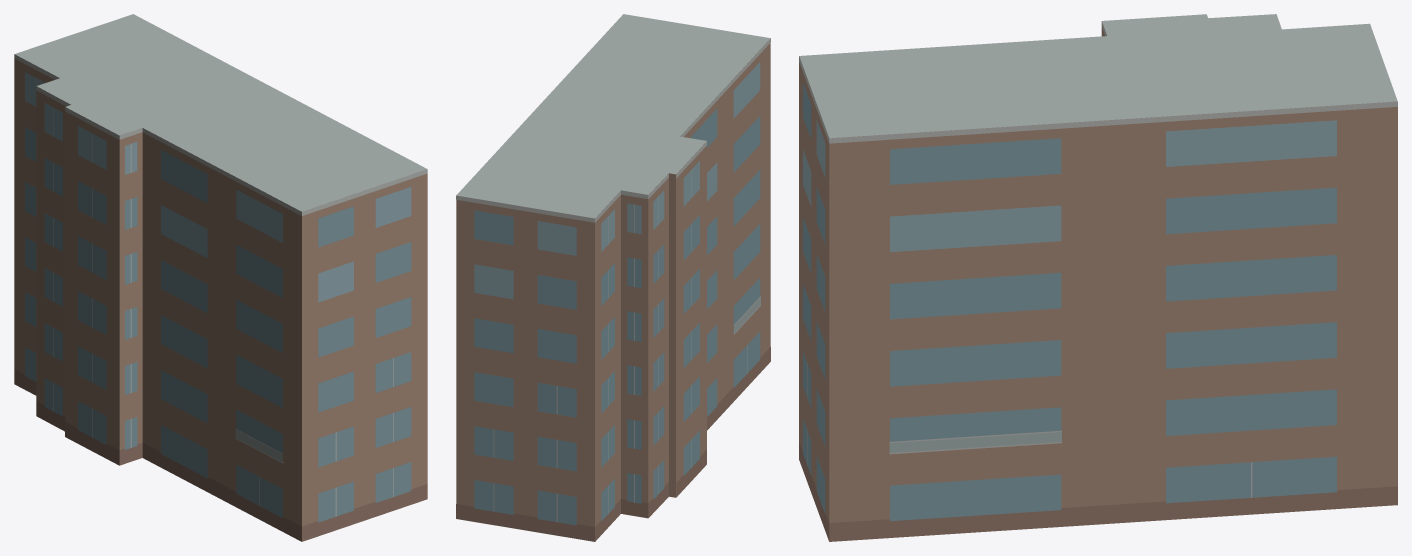
The model's file is survey-upis-33046293.glb.
The picture shows the model from 3 angles, left to right: view 1: azimuth 30°, elevation 25°; view 2: azimuth 150°, elevation 25°; view 3: azimuth 270°, elevation 25°; orthographic projection. The views are drawn at different scales.
Parts seen in each view (by area): view 1: survey-upis-33046293.tmp; view 2: survey-upis-33046293.tmp; view 3: survey-upis-33046293.tmp.
Boxes of the visible parts, x1,y1,x2,y2 form: survey-upis-33046293.tmp: (14, 14, 427, 541); survey-upis-33046293.tmp: (456, 14, 770, 541); survey-upis-33046293.tmp: (799, 14, 1397, 541).
Bounding box in the file's own units: 12.23 × 18.5 × 24.88.
